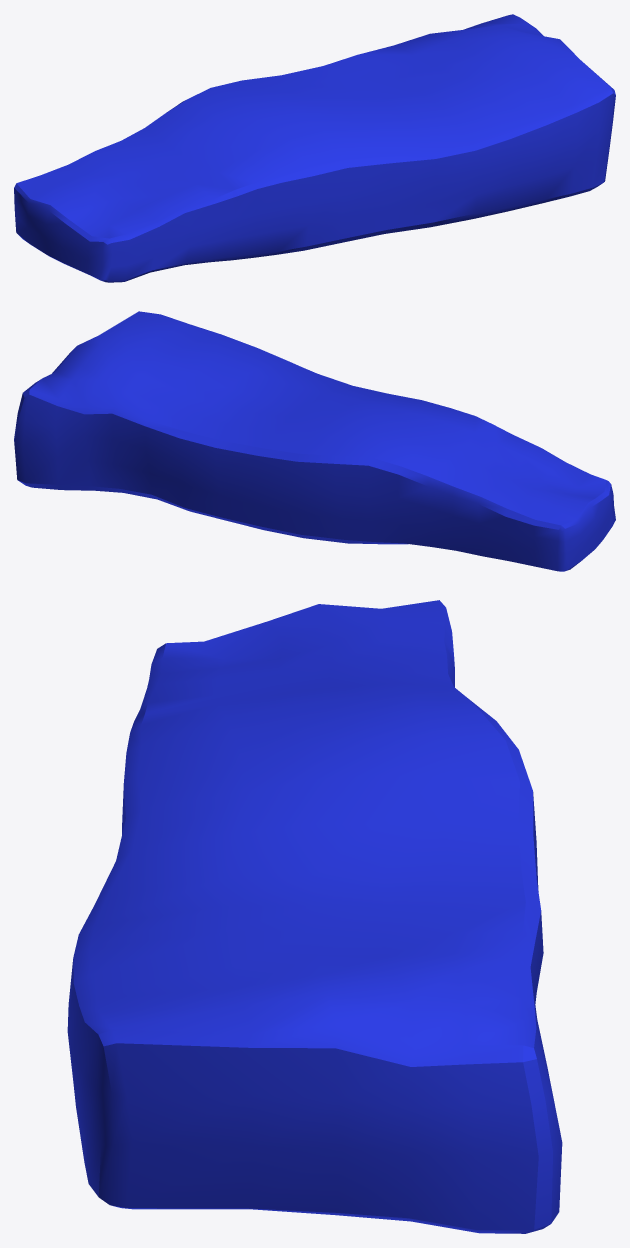
File: veal_n0_low.fbx
The picture shows the model from 3 angles, top to bottom: view 1: azimuth 30°, elevation 25°; view 2: azimuth 150°, elevation 25°; view 3: azimuth 270°, elevation 25°; orthographic projection. The views are drawn at different scales.
Visible parts, largest first — view 1: veal__n1_low; view 2: veal__n1_low; view 3: veal__n1_low.
Part boxes in pixels (x1,y1,x2,y2): veal__n1_low: (14,14,615,282); veal__n1_low: (14,311,615,571); veal__n1_low: (67,600,562,1233).
Bounding box in the file's own units: 35.17 × 6.83 × 14.28.
